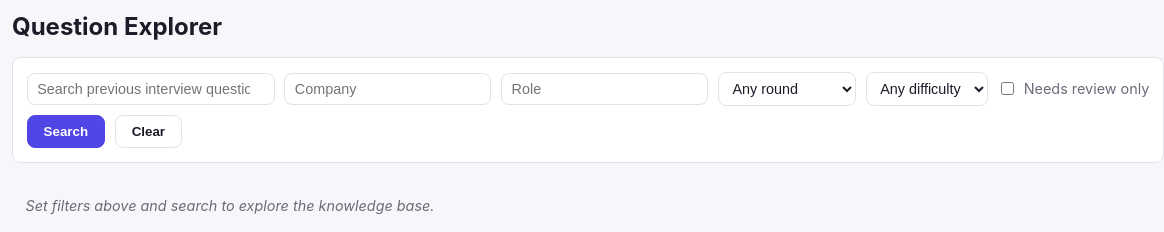
Test: QuestionExplorerPage › shows an empty state when nothing matches
Click the button "Search": (66, 132) [27,116,105,148]
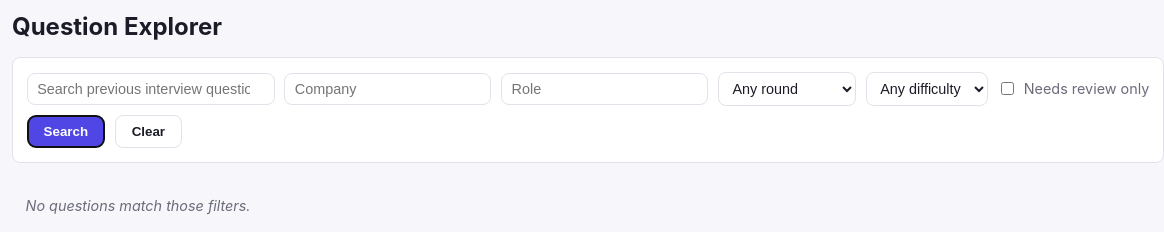
Expected: the text "No questions match those filters." is shown, [26,197,250,214]
